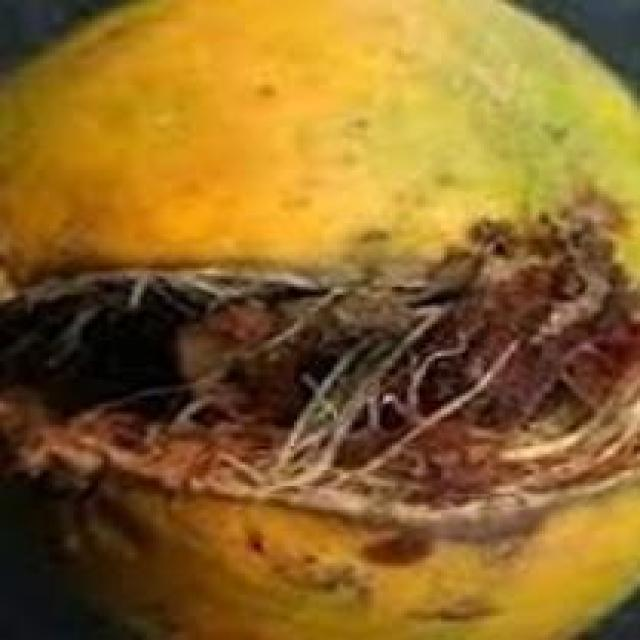damaged: (0, 0, 637, 637)
